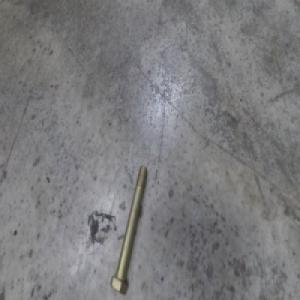Bolt: (111, 160, 148, 295)
